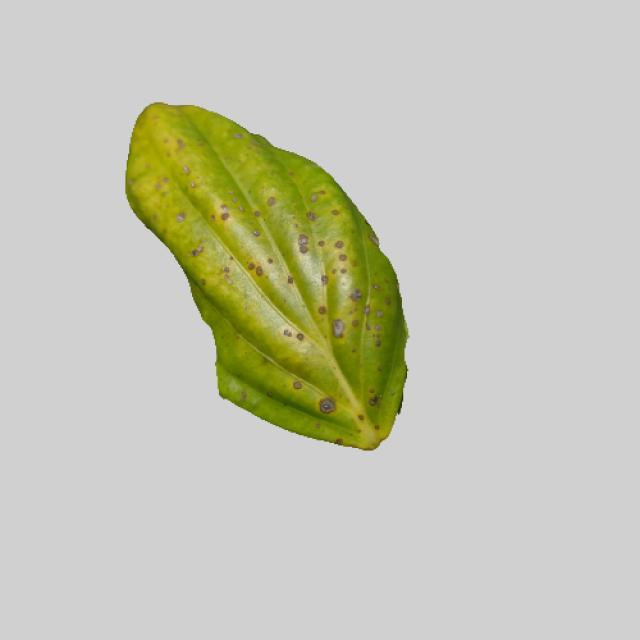yellow-mottle-virus: (113, 96, 414, 448)
